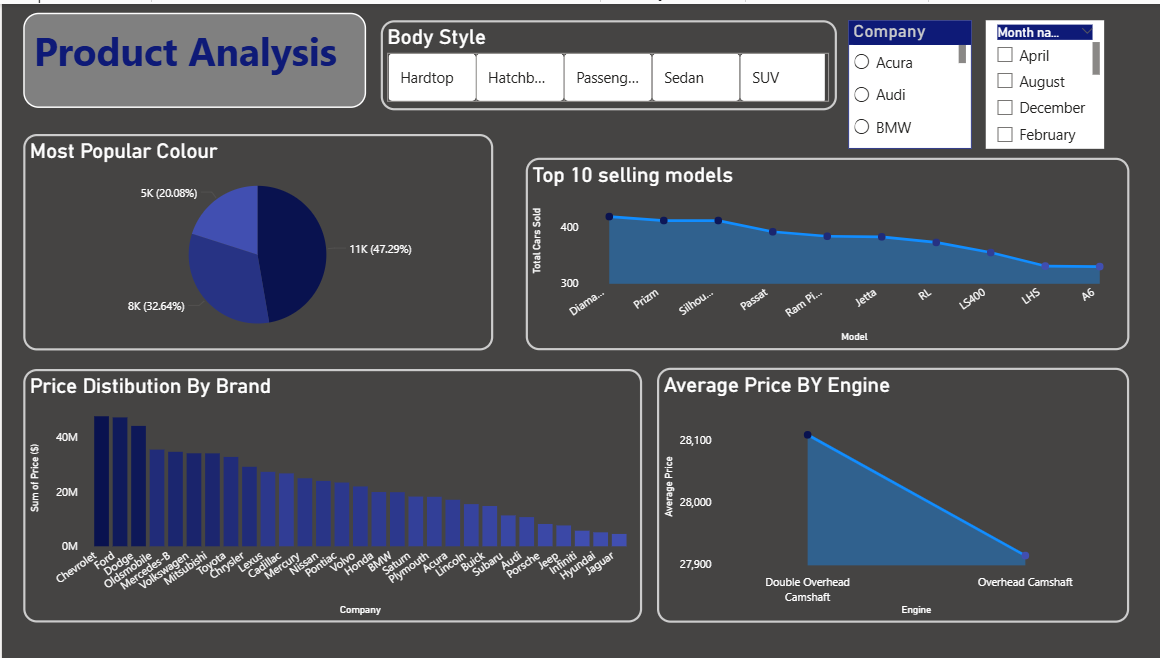

The dashboard page shown, as its layout file describes it:
{"tool":"powerbi","page":{"name":"Product Analysis","canvas":[1280,720],"ordinal":3},"visuals":[{"type":"areaChart","title":"Top 10 selling models","fields":{"Category":["car_data.Model"],"Y":["car_data.Total Cars Sold"]},"box":[576.8,169.3,664.9,212],"z":0},{"type":"lineClusteredColumnComboChart","title":"Price Distibution By Brand","fields":{"Category":["car_data.Company"],"Y":["Sum(car_data.Price ($))"]},"box":[23.4,402,681.4,279.5],"z":1000},{"type":"pieChart","title":"Most Popular Colour","fields":{"Category":["car_data.Color"],"Y":["car_data.Total Cars Sold"]},"box":[23.4,143.2,517.6,238.2],"z":2000},{"type":"areaChart","title":"Average Price BY Engine","fields":{"Category":["car_data.Engine"],"Y":["car_data.Average Price"]},"box":[721.4,400.6,520.4,280.8],"z":3000},{"type":"textbox","box":[23.4,9.6,377.2,104.6],"z":3001},{"type":"slicer","fields":{"Values":["car_data.Month name"]},"box":[1083.4,17.9,130.8,141.8],"z":3002},{"type":"listSlicer","fields":{"Values":["car_data.Company"]},"box":[932,17.9,136.3,141.8],"z":3004},{"type":"advancedSlicerVisual","fields":{"Values":["car_data.Body Style"]},"box":[417.1,17.9,502.5,99.1],"z":3005}]}

Visuals, with their boxes in screenshot pixels (x1, y1, x2, y2), scaled from the page's 1280x720 canvas onto the 1160x658 screenshot:
"Top 10 selling models" areaChart: BBox(523, 155, 1125, 348)
"Price Distibution By Brand" lineClusteredColumnComboChart: BBox(21, 367, 639, 623)
"Most Popular Colour" pieChart: BBox(21, 131, 490, 349)
"Average Price BY Engine" areaChart: BBox(654, 366, 1125, 623)
textbox: BBox(21, 9, 363, 104)
slicer - car_data.Month name: BBox(982, 16, 1100, 146)
listSlicer - car_data.Company: BBox(845, 16, 968, 146)
advancedSlicerVisual - car_data.Body Style: BBox(378, 16, 833, 107)
